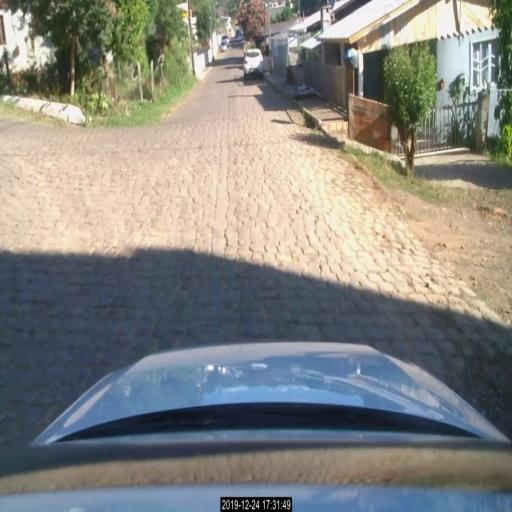Pothole: (397, 212, 471, 292)
